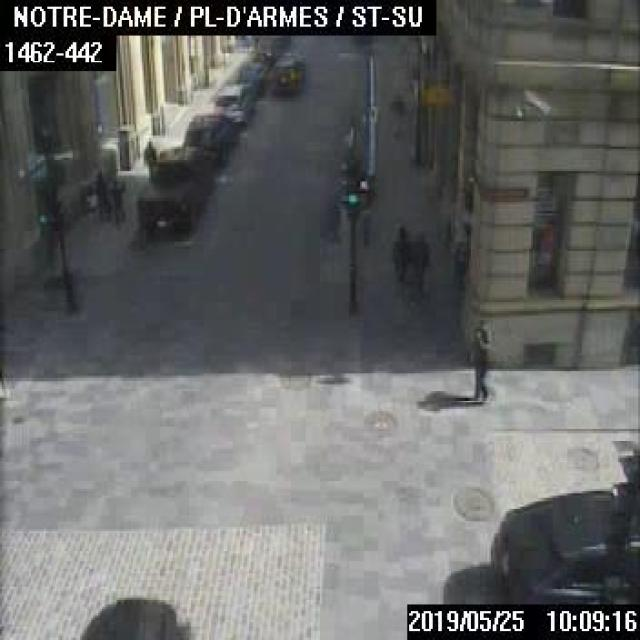pedestrian: (467, 318, 493, 402), (390, 217, 411, 291), (410, 227, 431, 300), (108, 169, 124, 229), (94, 170, 108, 220), (140, 136, 155, 176), (84, 183, 95, 216)
vehicle: (480, 484, 638, 602), (136, 144, 215, 233), (77, 596, 188, 638), (178, 111, 239, 172), (210, 81, 258, 128), (271, 49, 304, 92), (238, 59, 270, 93), (248, 33, 282, 61)
